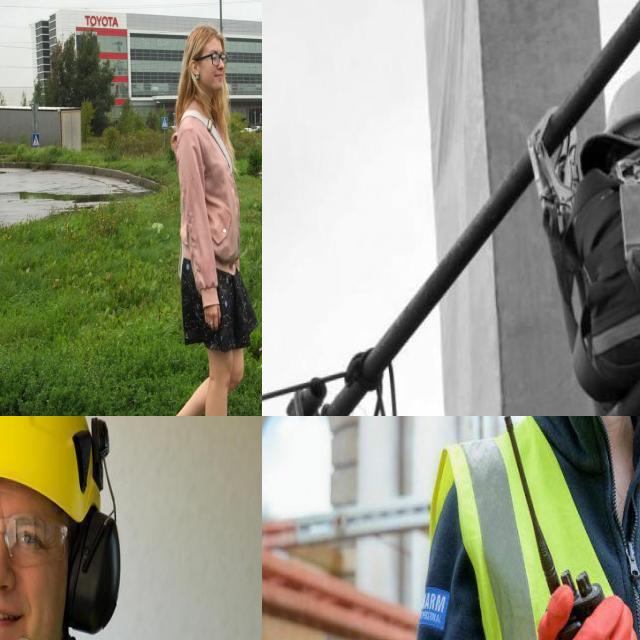Harness: (615, 154, 640, 296)
face_nomask: (0, 481, 80, 640)
glasses: (0, 501, 73, 571)
hand_glove: (517, 582, 640, 640)
head_helmet: (0, 416, 123, 525)
person: (0, 416, 245, 640), (413, 416, 640, 640)
vest: (441, 425, 640, 640)
